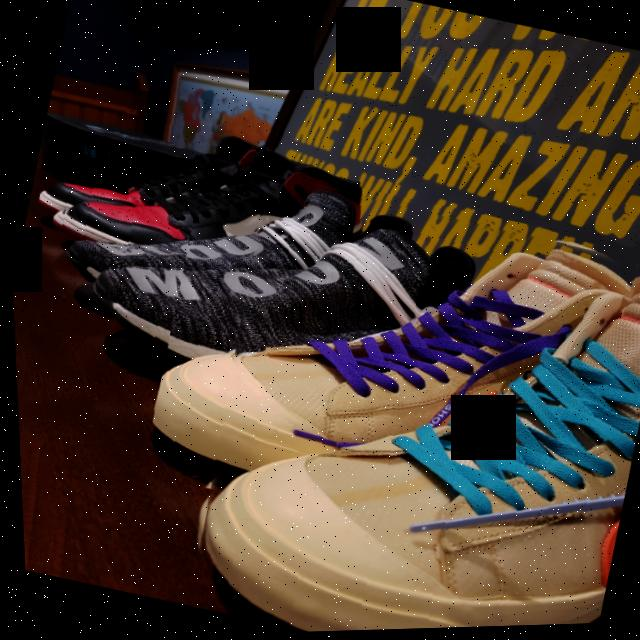shoe: (158, 167, 640, 636), (126, 145, 640, 583), (24, 118, 505, 457), (23, 75, 369, 310)
